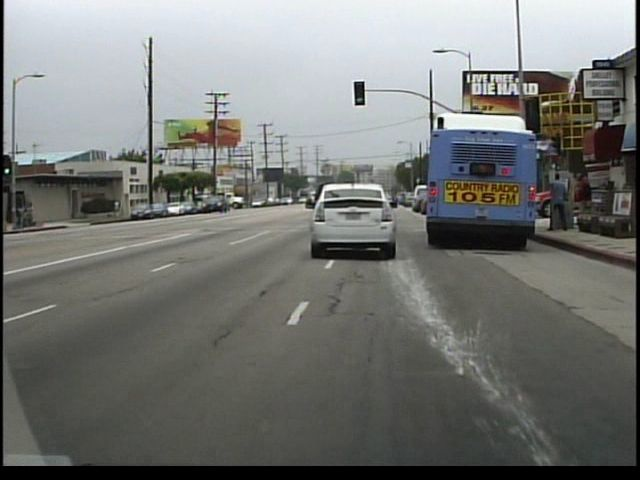person: (543, 170, 569, 236), (111, 195, 123, 219)
